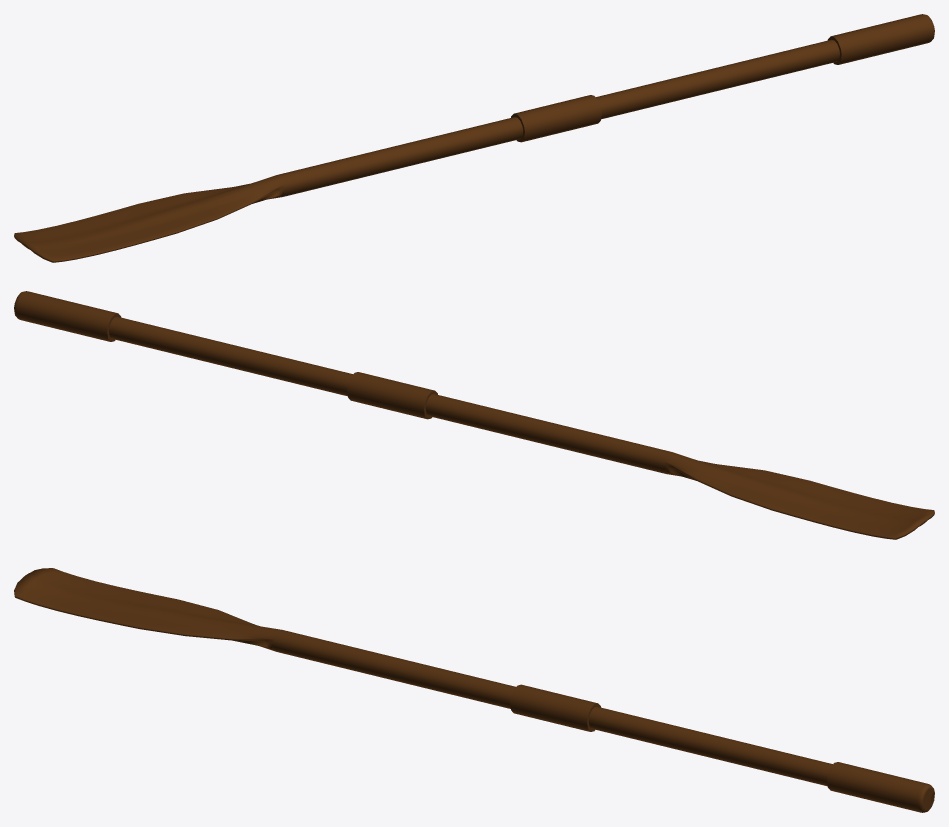
The model's file is BoatOars.FBX.
3 views of the same model, one above another, from view 1: azimuth 30°, elevation 25°; view 2: azimuth 150°, elevation 25°; view 3: azimuth 330°, elevation 25° (orthographic).
Visible parts, largest first — view 1: Cylinder001; view 2: Cylinder001; view 3: Cylinder001.
Part boxes in pixels (x1,y1,x2,y2): Cylinder001: (14,14,934,262); Cylinder001: (14,291,934,539); Cylinder001: (14,568,934,812).
Bounding box in the file's own units: 40.67 × 1.16 × 3.05.
